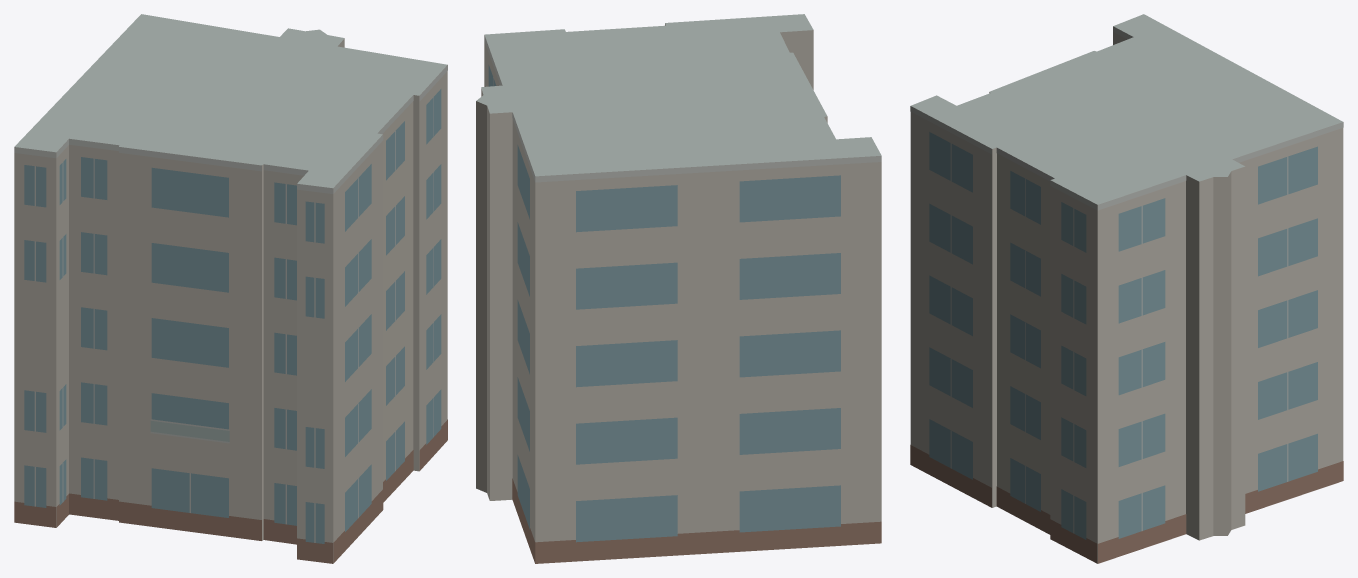
Rendered from survey-upis-32965536.glb.
The picture shows the model from 3 angles, left to right: view 1: azimuth 30°, elevation 25°; view 2: azimuth 150°, elevation 25°; view 3: azimuth 270°, elevation 25°; orthographic projection. The views are drawn at different scales.
Visible parts, largest first — view 1: survey-upis-32965536.tmp; view 2: survey-upis-32965536.tmp; view 3: survey-upis-32965536.tmp.
Part boxes in pixels (x1,y1,x2,y2): survey-upis-32965536.tmp: [14, 14, 447, 563]; survey-upis-32965536.tmp: [476, 14, 881, 563]; survey-upis-32965536.tmp: [910, 14, 1343, 563].
Bounding box in the file's own units: 17.57 × 15.4 × 16.84.
